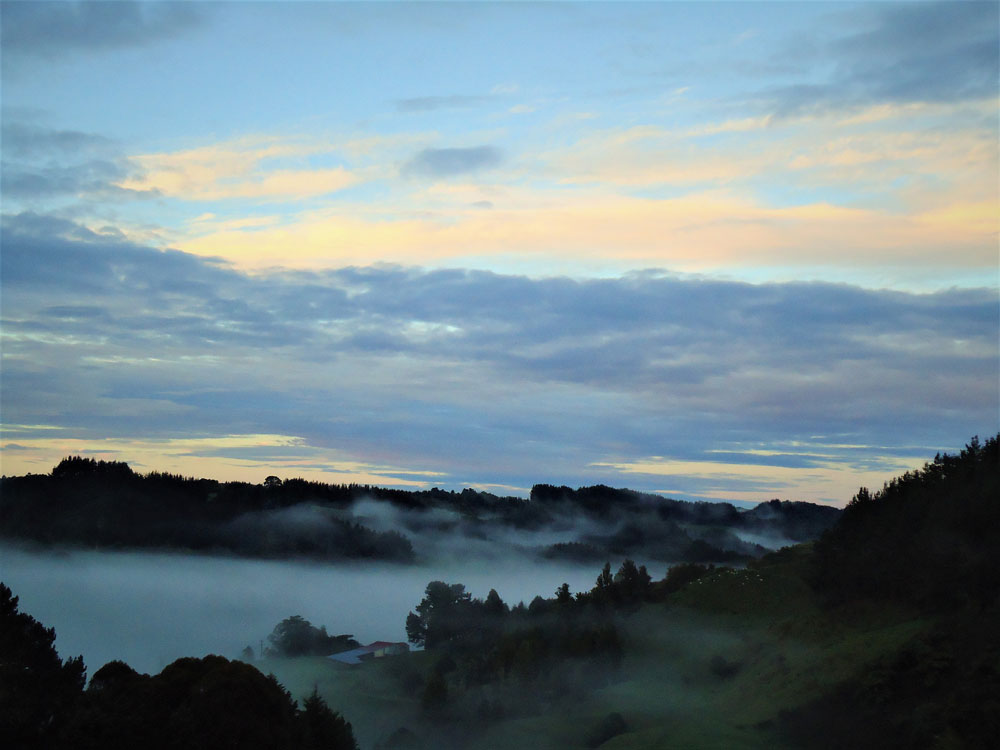Stratus: (17, 203, 1000, 460)
